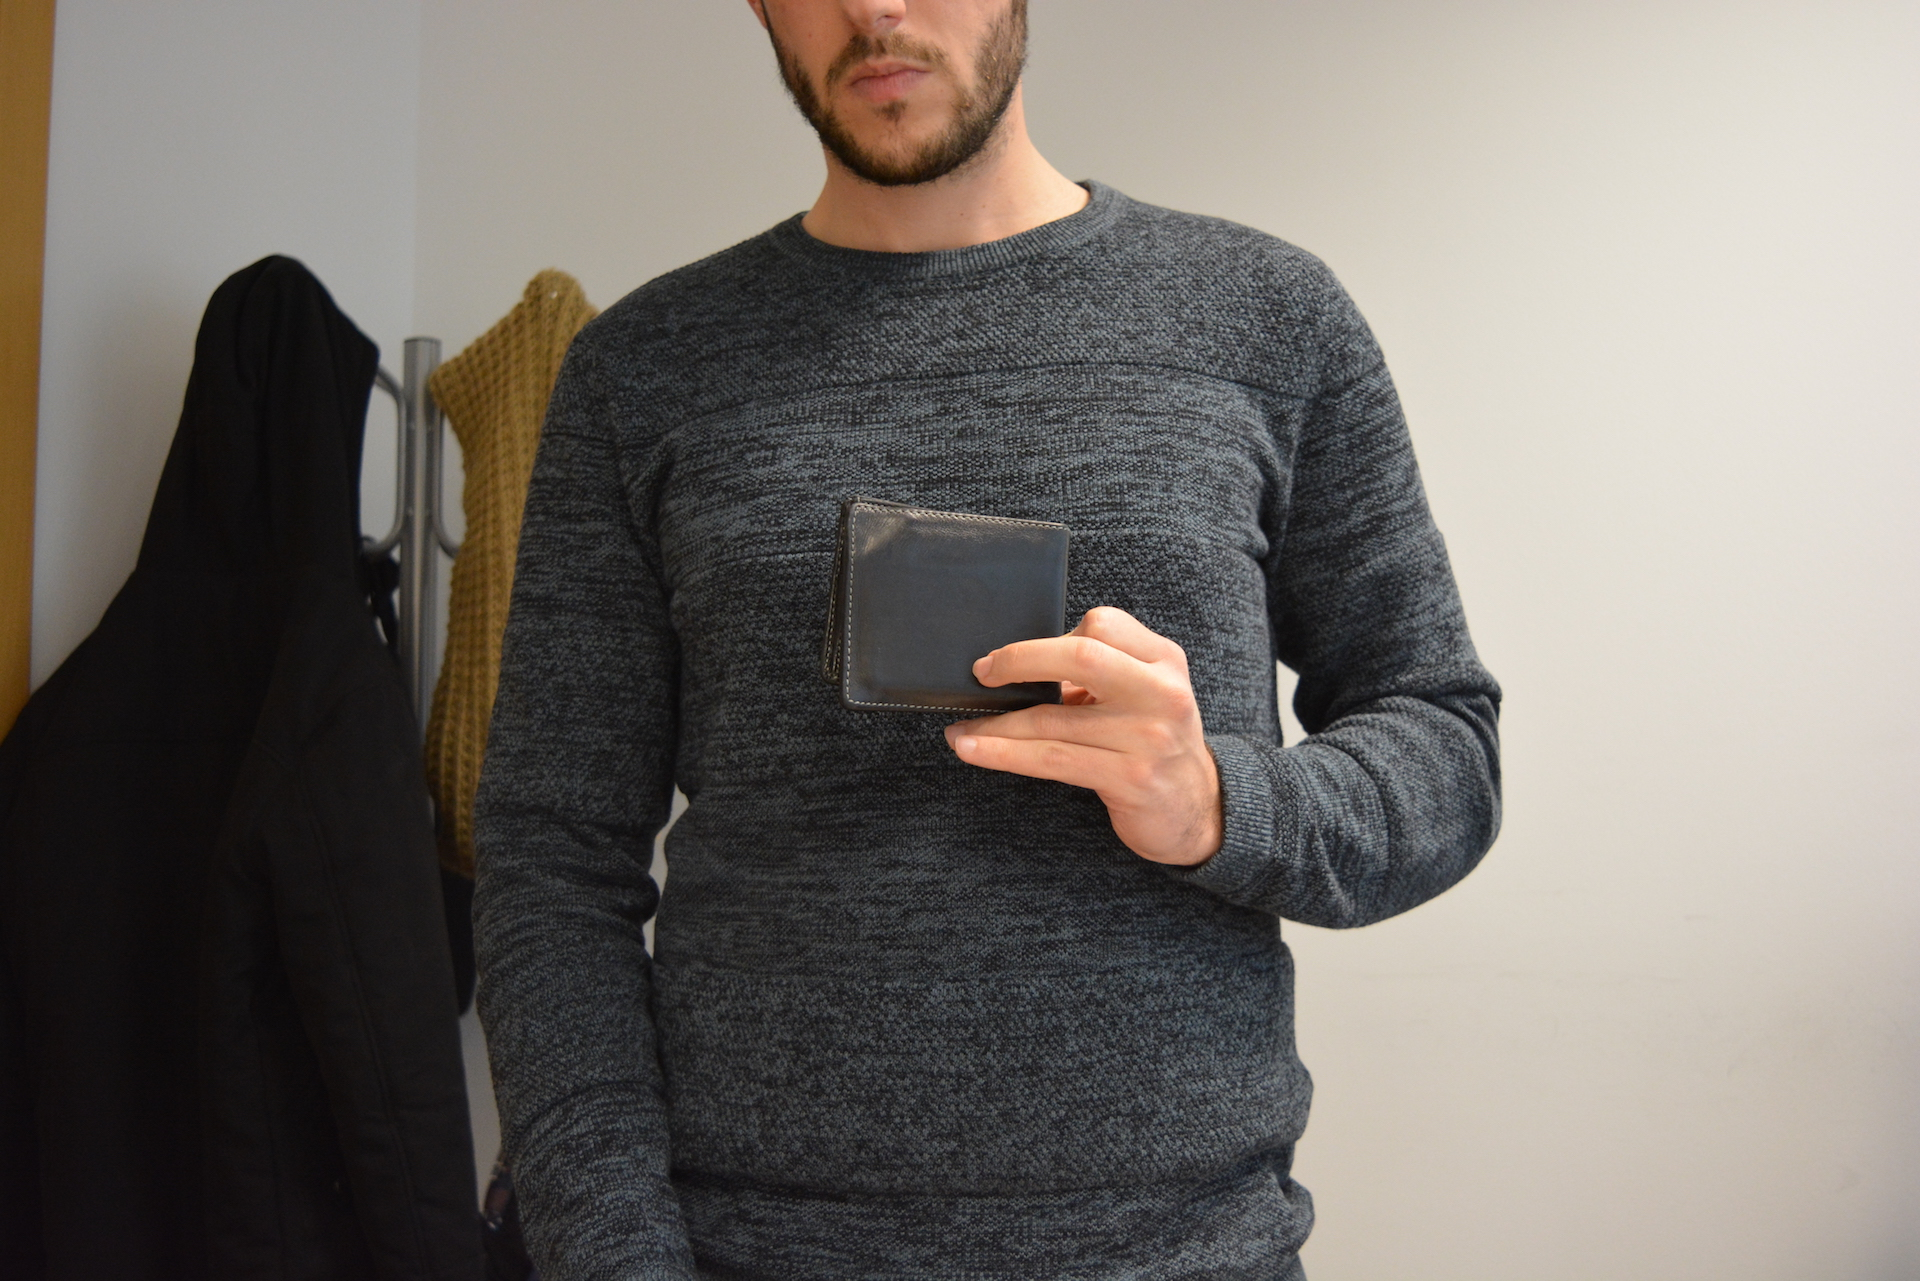monedero: (819, 495, 1071, 718)
